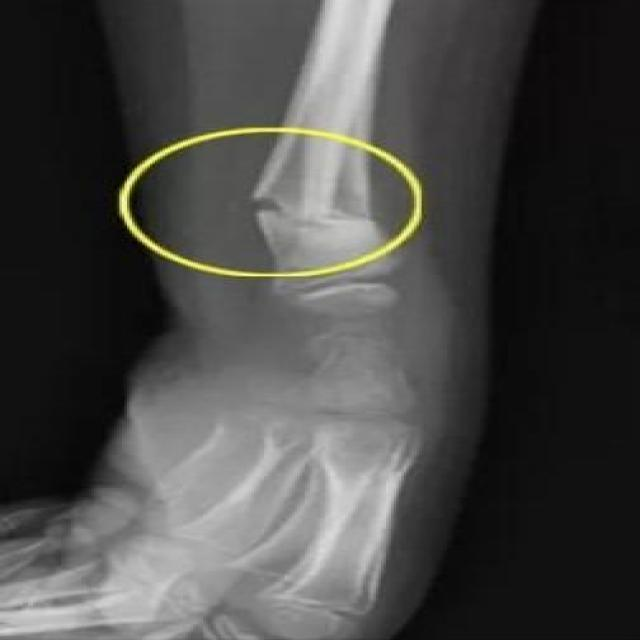bone: (217, 128, 398, 246)
